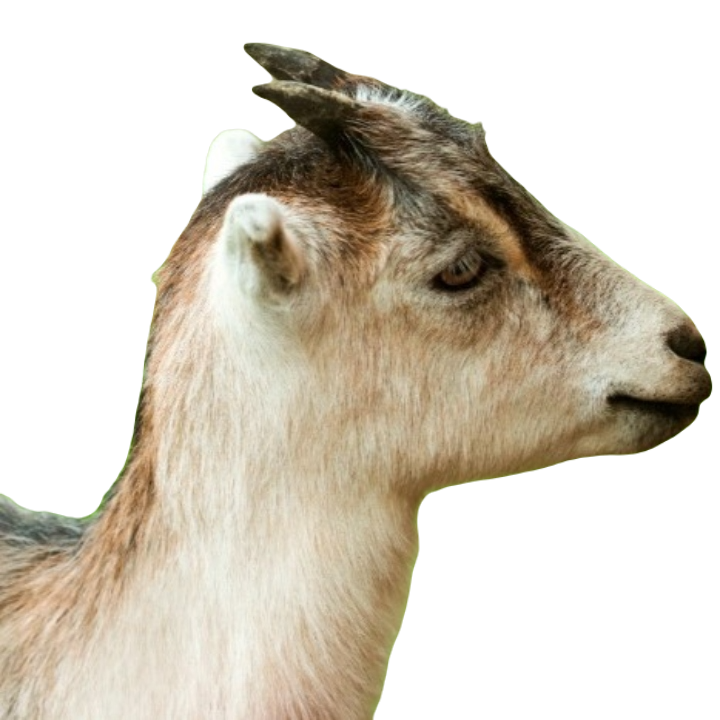Goat: (0, 39, 712, 715)
